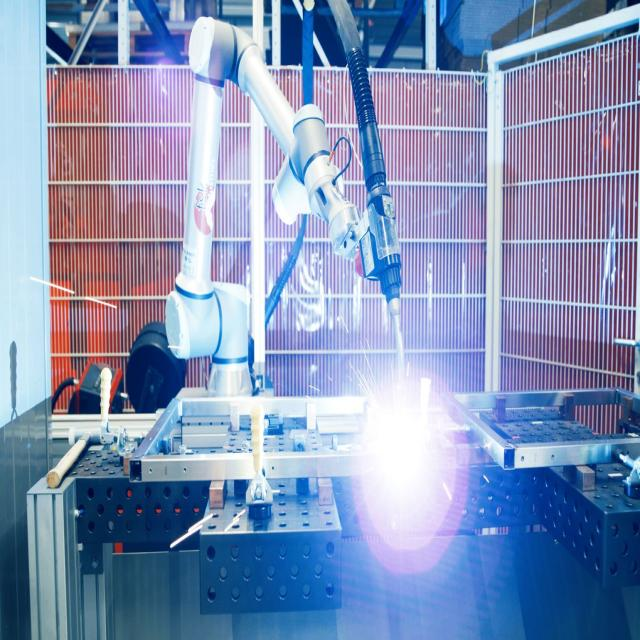welding: (371, 399, 432, 494)
